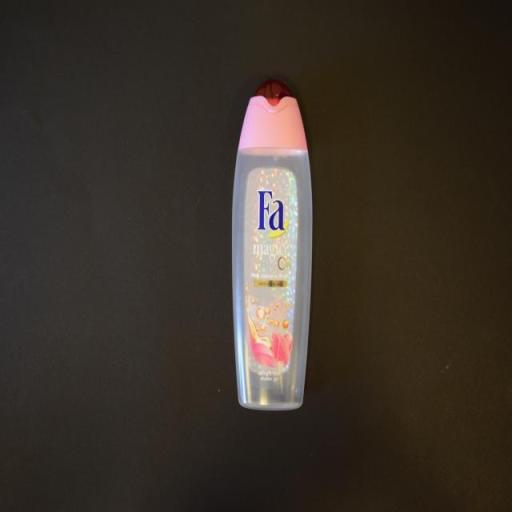plastic: (228, 84, 314, 414)
